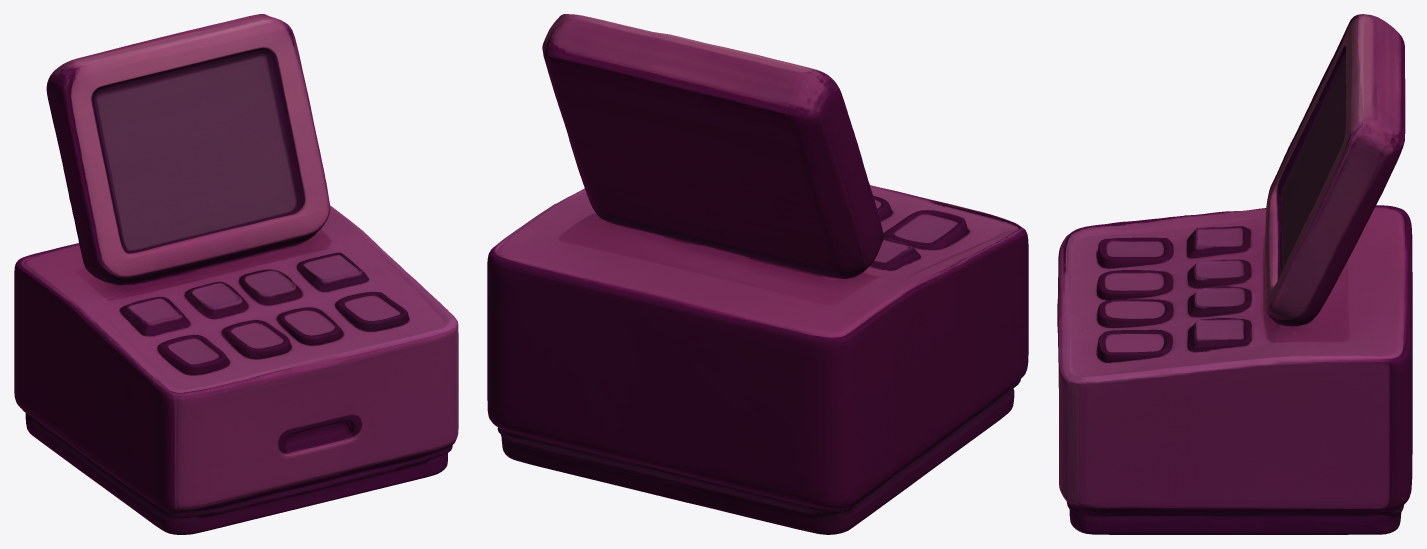
The picture shows the model from 3 angles, left to right: view 1: azimuth 30°, elevation 25°; view 2: azimuth 150°, elevation 25°; view 3: azimuth 270°, elevation 25°; orthographic projection. The views are drawn at different scales.
Visible parts, largest first — view 1: world; view 2: world; view 3: world.
Part boxes in pixels (box(x1,y1,x2,y2)): world: box(14, 14, 458, 534); world: box(487, 14, 1028, 534); world: box(1057, 14, 1412, 534).
Bounding box in the file's own units: 0.8569 × 1 × 0.8221.
1 material, 1 textured.
